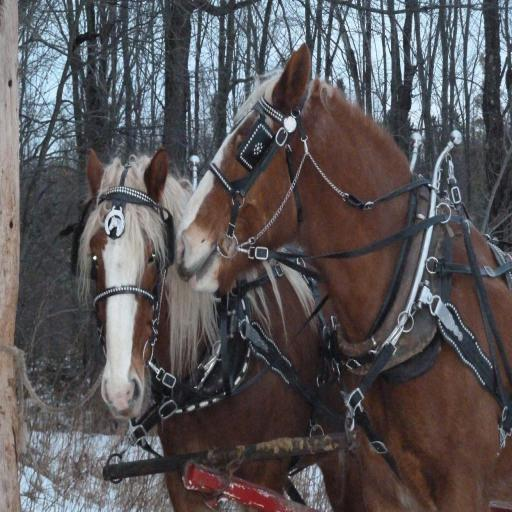Horse: (174, 36, 512, 511), (73, 146, 373, 510)
